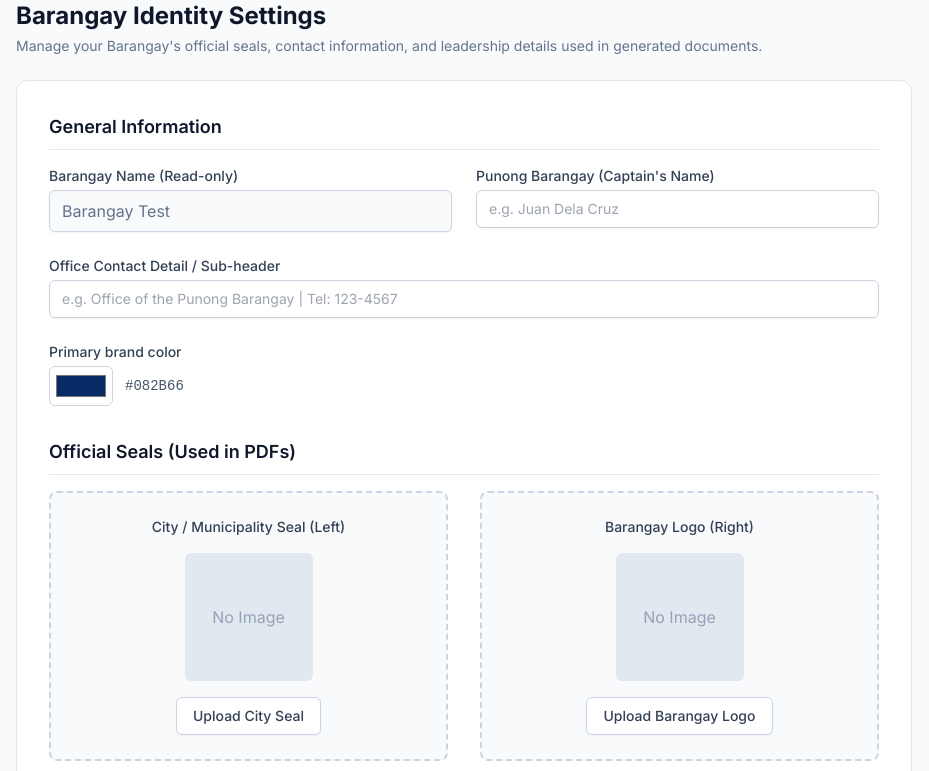
Test: BarangaySettings › saves the selected primary color and updates the active theme
Type "#c70039" into the colour field labelled "Primary brand color" at x=81, y=386, box [49,366,113,406]
(page scrolled)
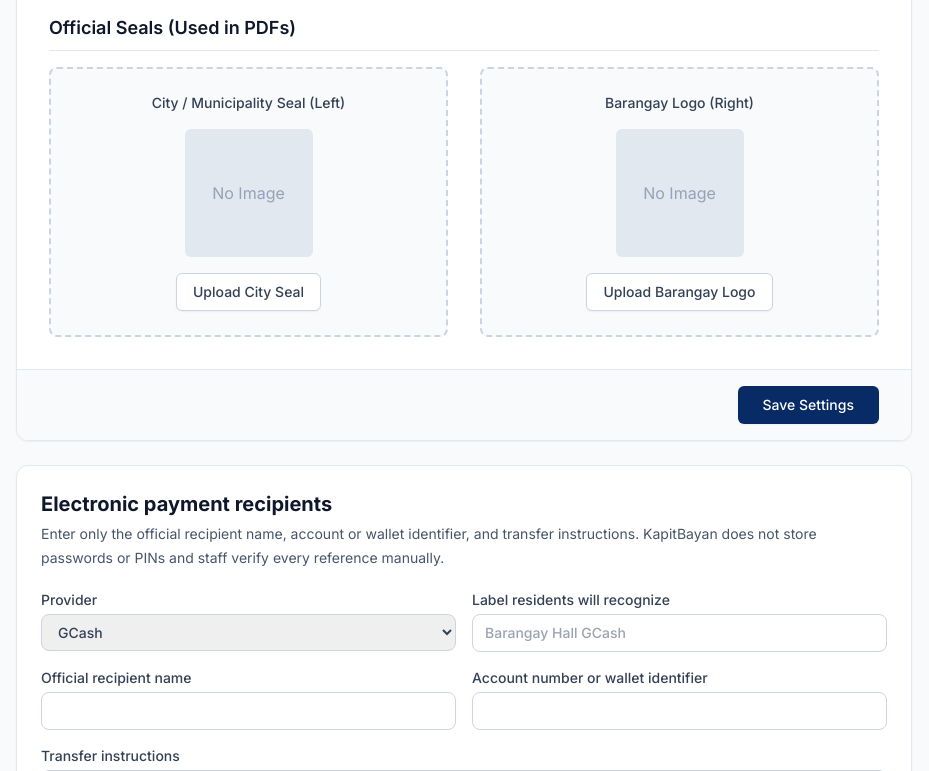
Click the button "Save Settings" at x=808, y=405, box [738,386,879,424]
(page scrolled)
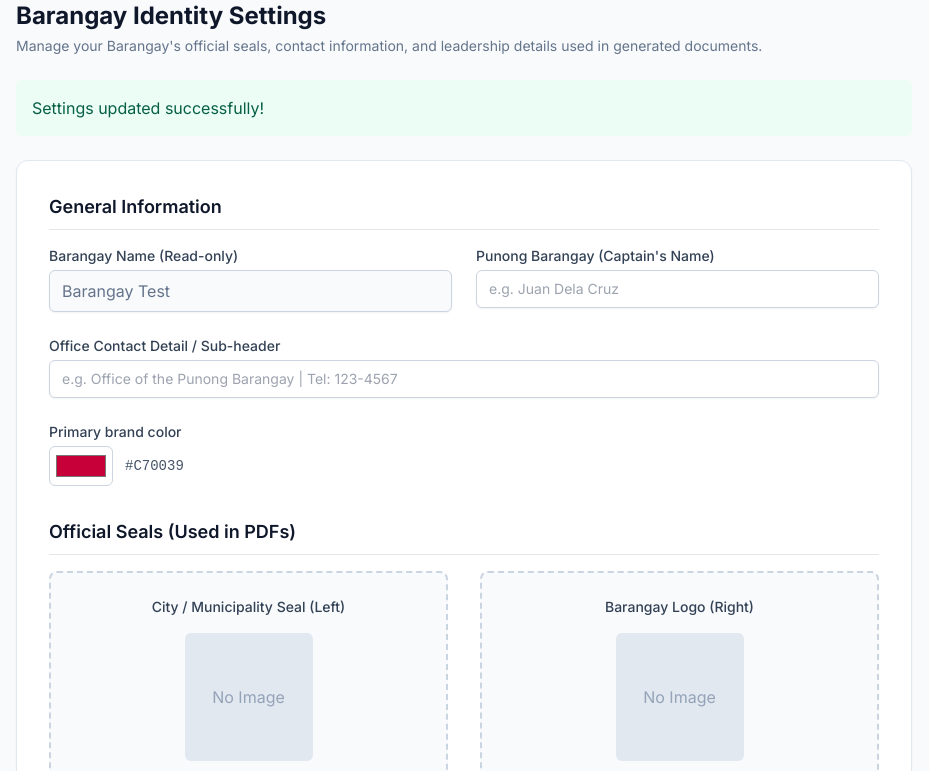
Now the text "#C70039" is shown, box [125,456,184,476]
Now the text "Settings updated successfully!" is shown, box [16,80,912,136]
